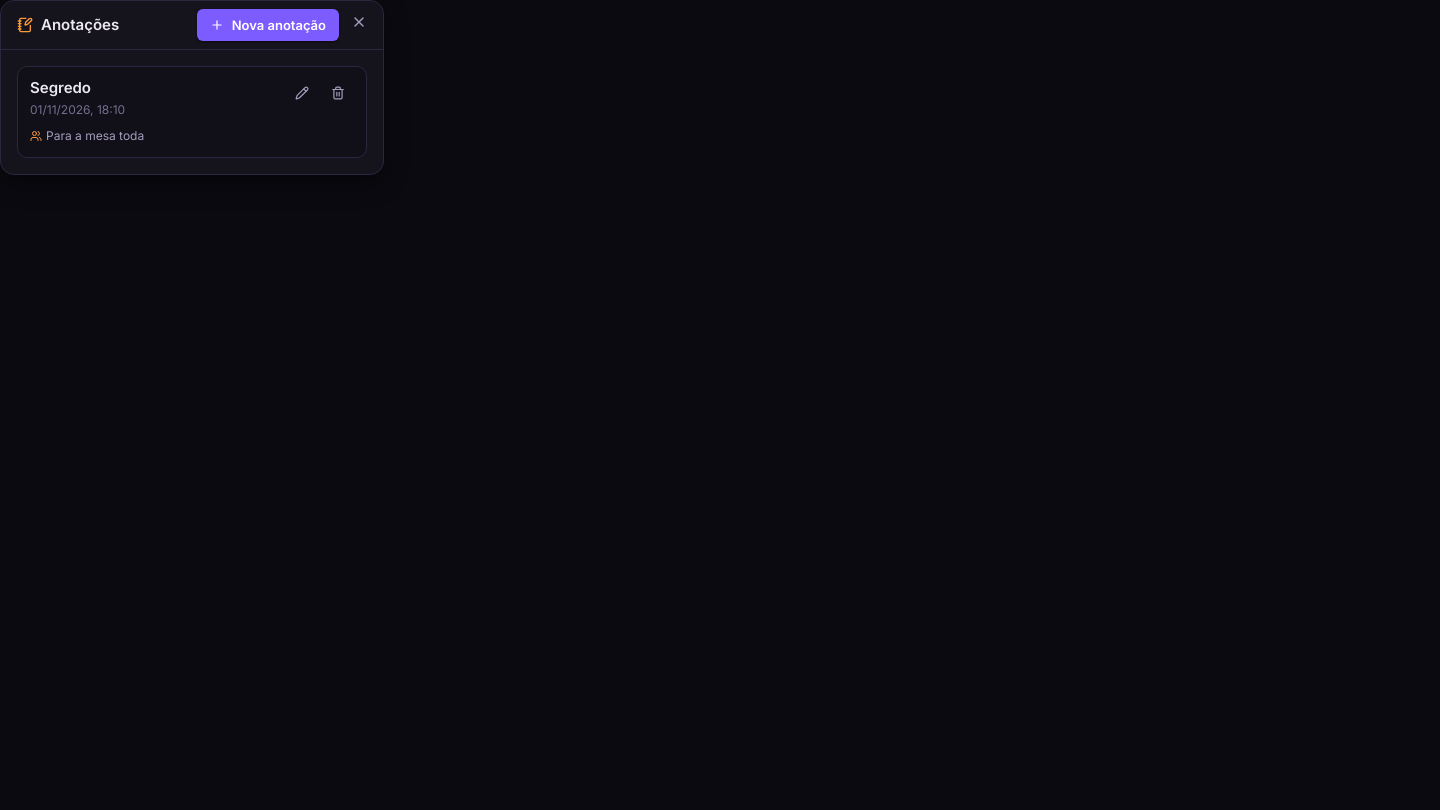
it: apagar › shouldAskForConfirmationThenDeleteAndCloseTheWindow
The image size is (1440, 810).
Step 1. Click the button named "Apagar a anotação “Segredo”" → point(338, 95), box [322, 79, 354, 111]
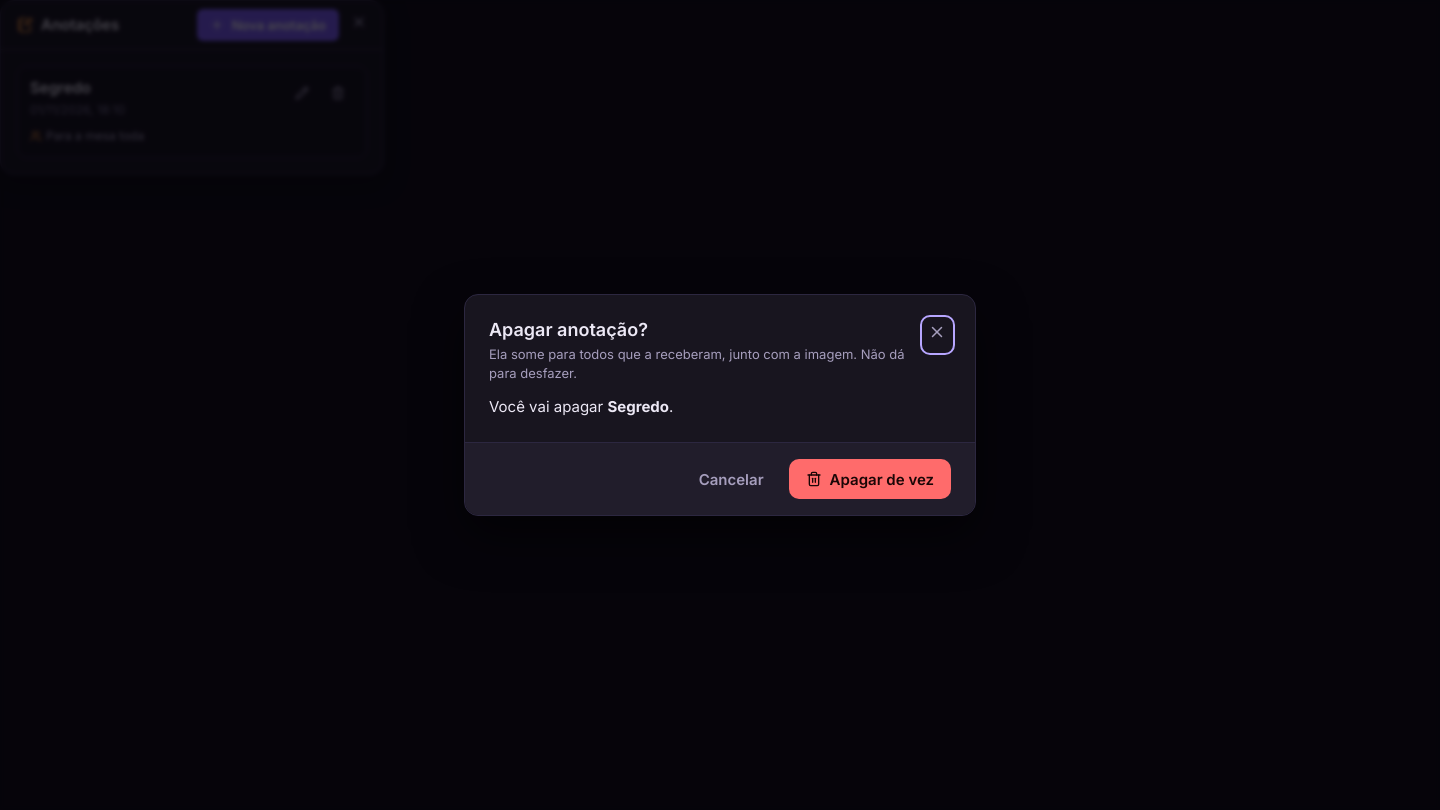
Step 2. Click the button "Apagar de vez" → point(870, 479), box [789, 459, 951, 499]
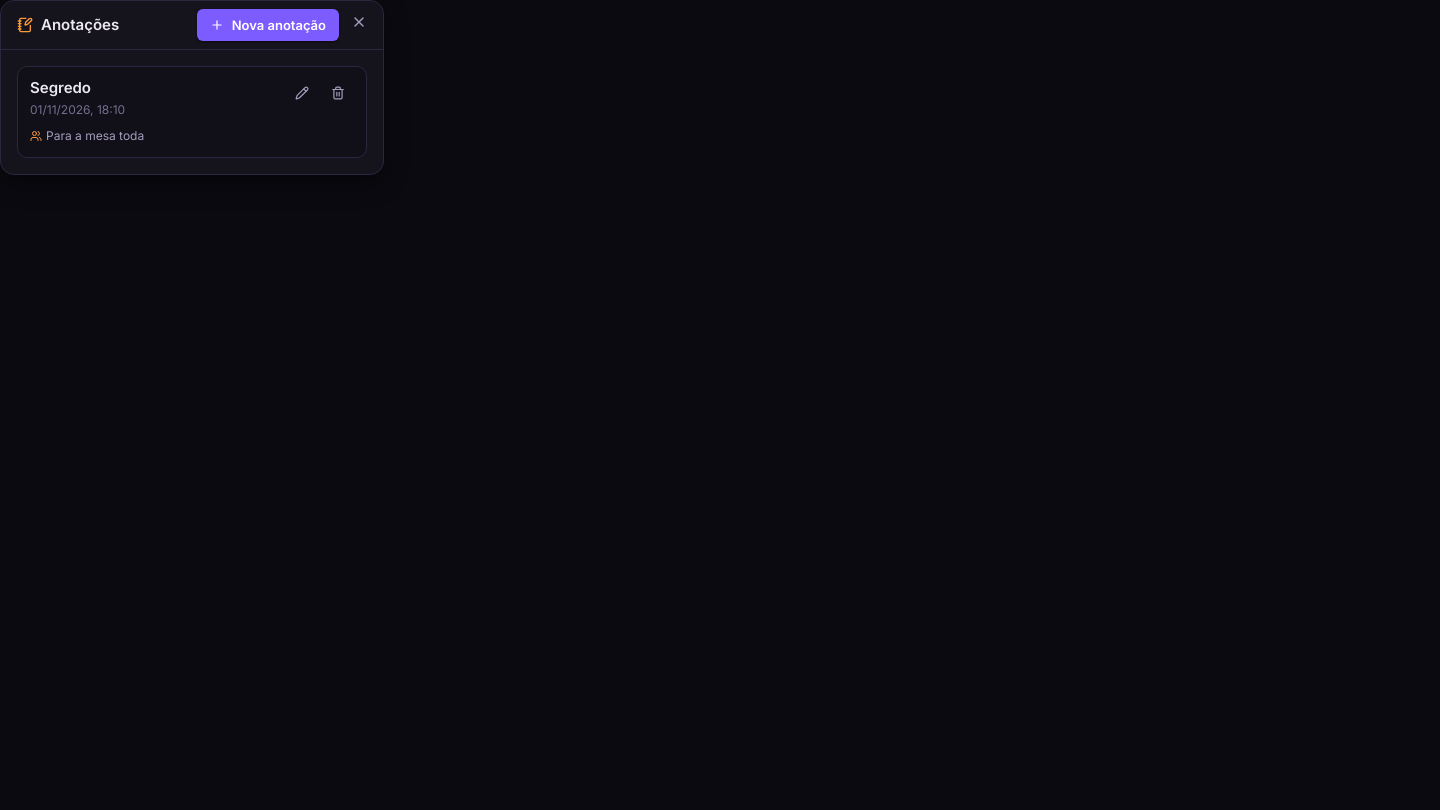
Now the heading "Apagar anotação?" is gone
